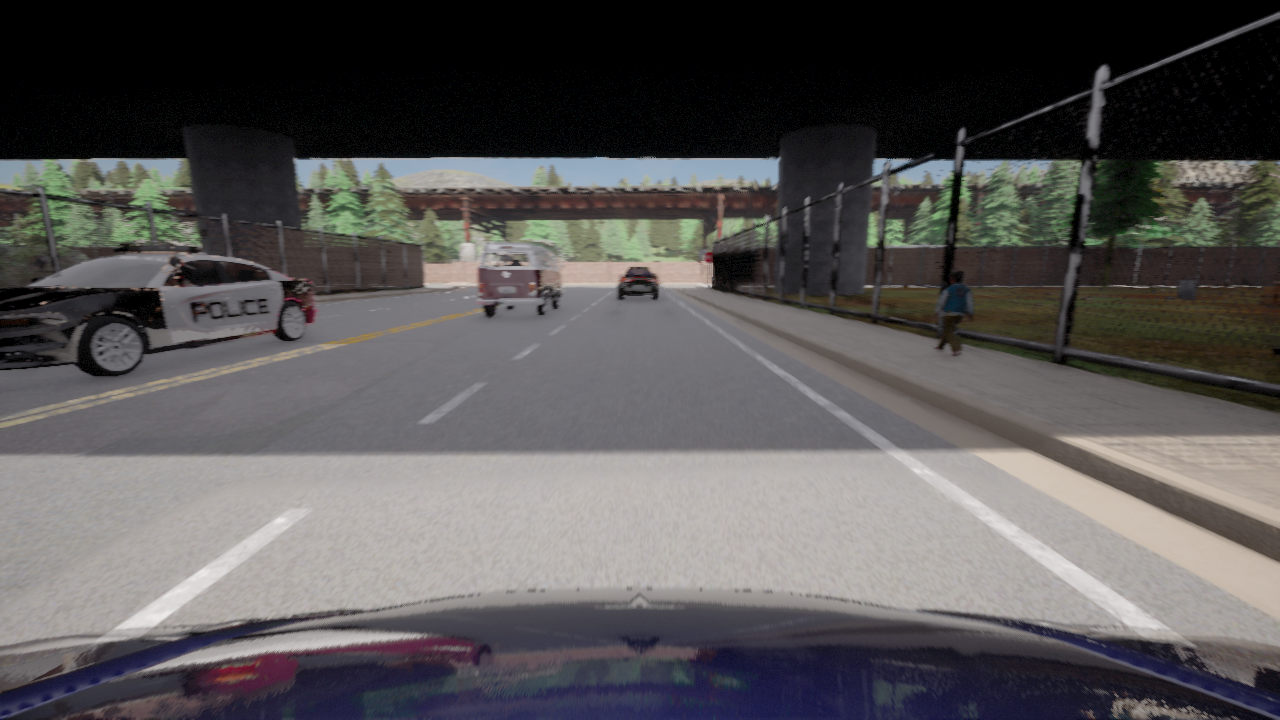cyclist: (0, 588, 1279, 719), (0, 242, 316, 376), (477, 242, 565, 315), (618, 267, 658, 298), (885, 245, 945, 246)
pedestrian: (933, 270, 973, 356)
